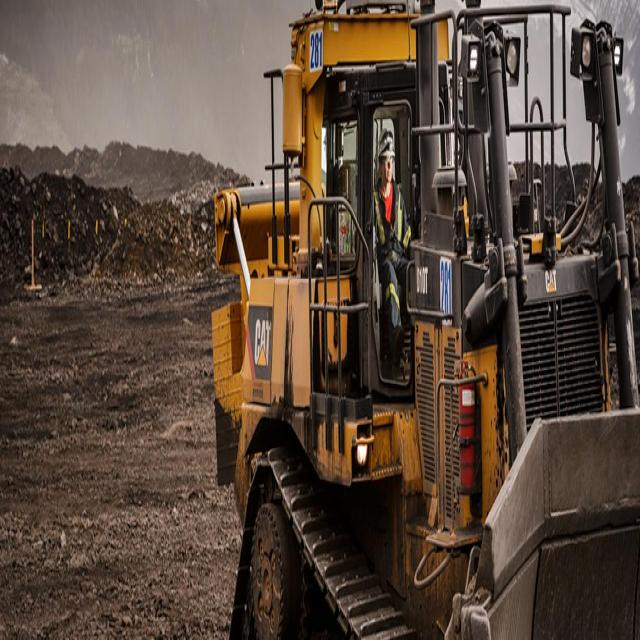Bulldozer: (200, 6, 640, 639)
